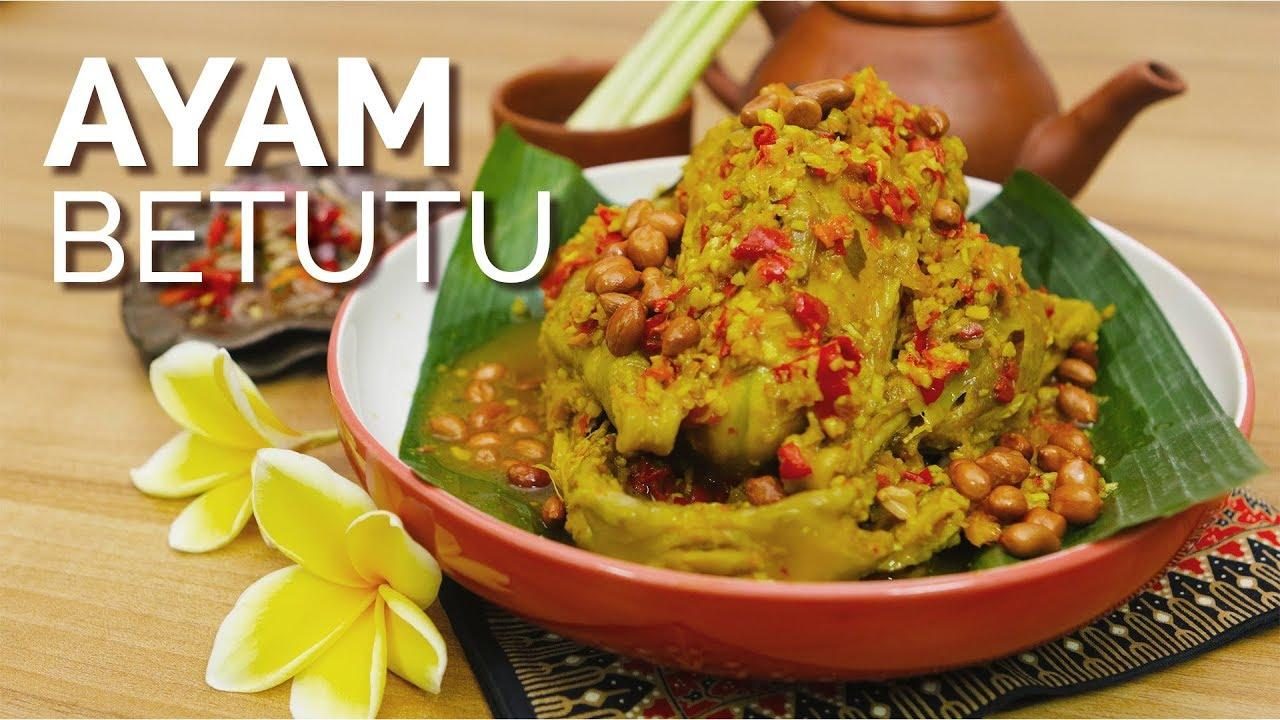ayam_betutu: (560, 77, 1102, 586)
